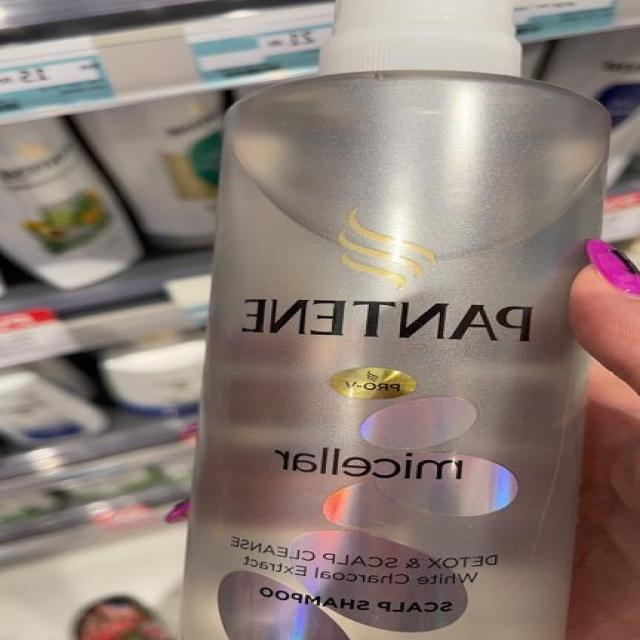plastic: (172, 0, 614, 640)
